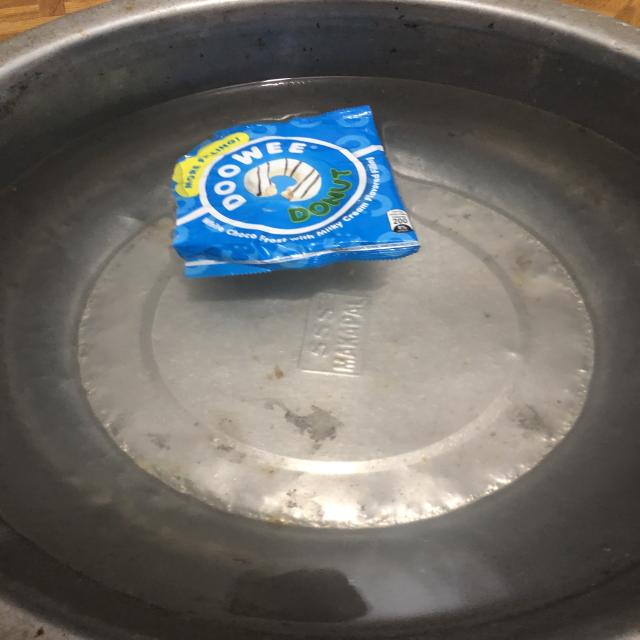Plastic Wrapper: (172, 106, 419, 277)
